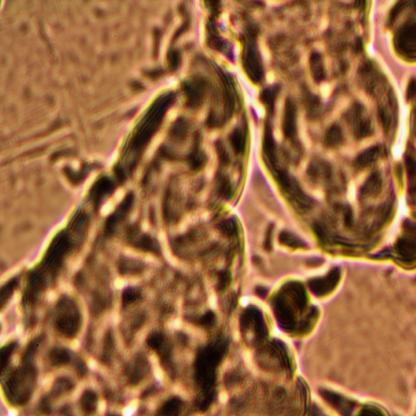Normal: (10, 122, 416, 416), (86, 0, 415, 282)
